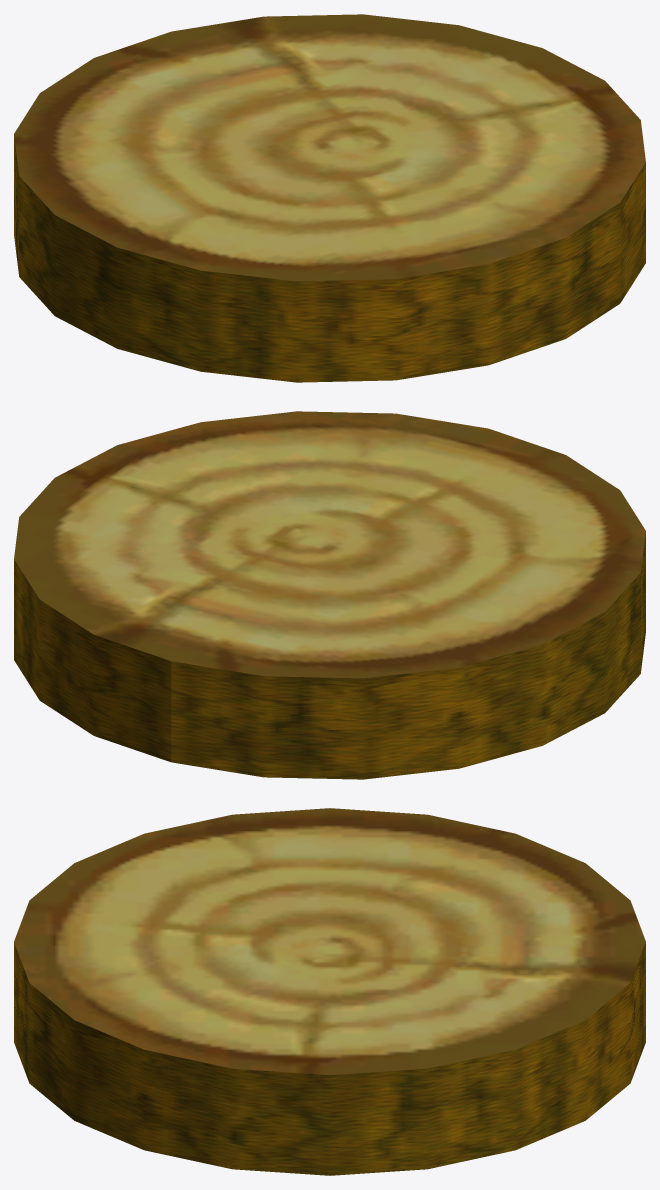
Rendered from UFOShapePassThroughPlanetParts.dae.
The picture shows the model from 3 angles, top to bottom: view 1: azimuth 30°, elevation 25°; view 2: azimuth 150°, elevation 25°; view 3: azimuth 270°, elevation 25°; orthographic projection.
Visible parts, largest first — view 1: n1b1, n0b0; view 2: n1b1, n0b0; view 3: n1b1, n0b0.
Part boxes in pixels (x1,y1,x2,y2): n1b1: (14, 14, 645, 281); n0b0: (14, 135, 645, 382); n1b1: (14, 411, 645, 678); n0b0: (14, 532, 645, 779); n1b1: (14, 808, 645, 1075); n0b0: (14, 942, 645, 1175).
Size of the model in its own units: 556 by 97.59 by 556.
